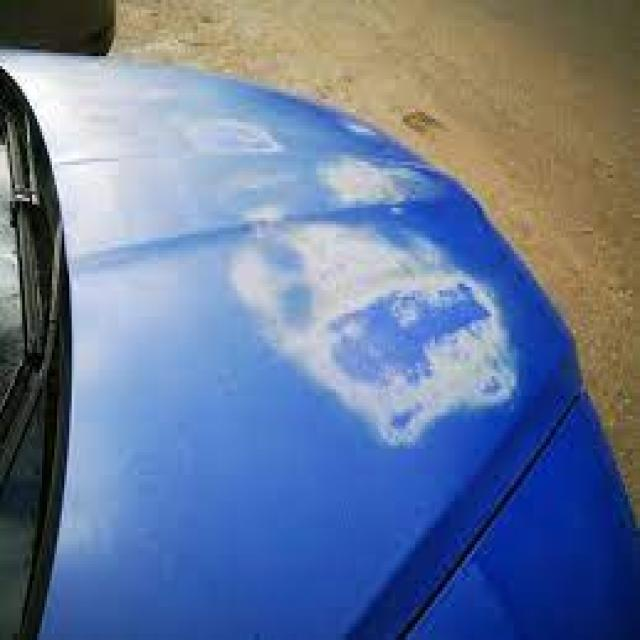paint-chip: (173, 223, 521, 465), (311, 142, 465, 215), (172, 109, 292, 160), (215, 163, 301, 222)
